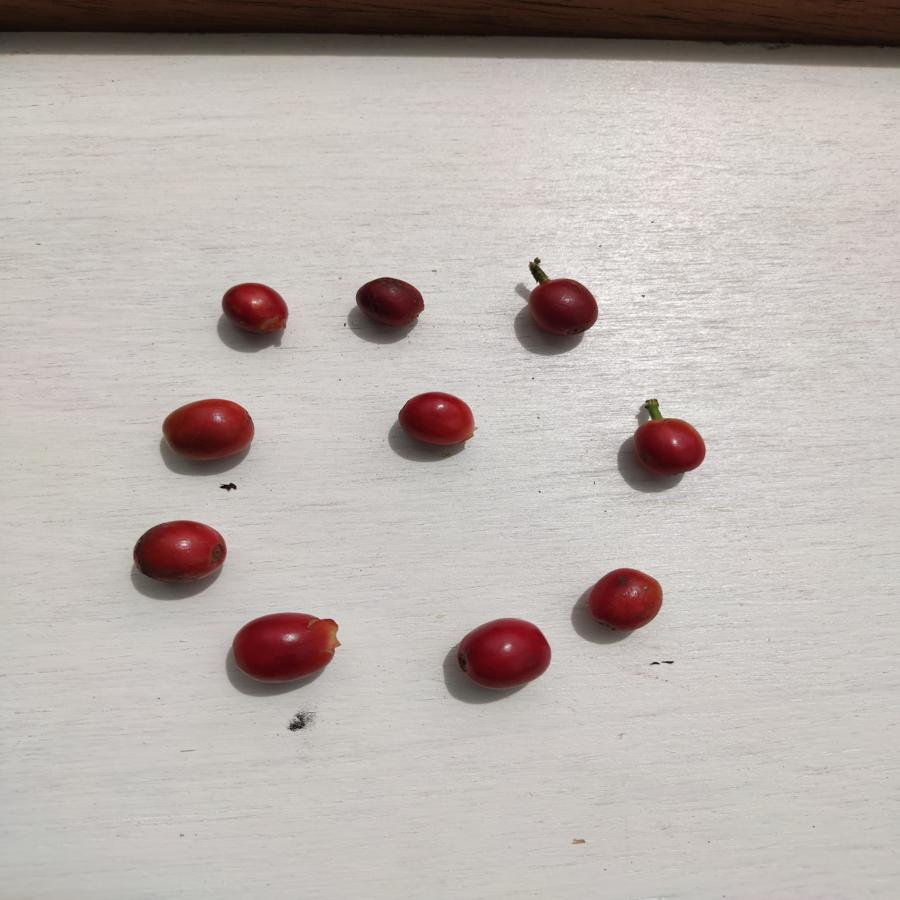Maduro: (229, 607, 338, 686), (449, 618, 551, 687), (157, 398, 258, 467), (131, 518, 227, 587), (216, 280, 303, 347), (626, 414, 712, 478), (589, 566, 663, 633), (398, 388, 476, 451)
Sobremaduro: (524, 272, 601, 345), (353, 275, 428, 328)
